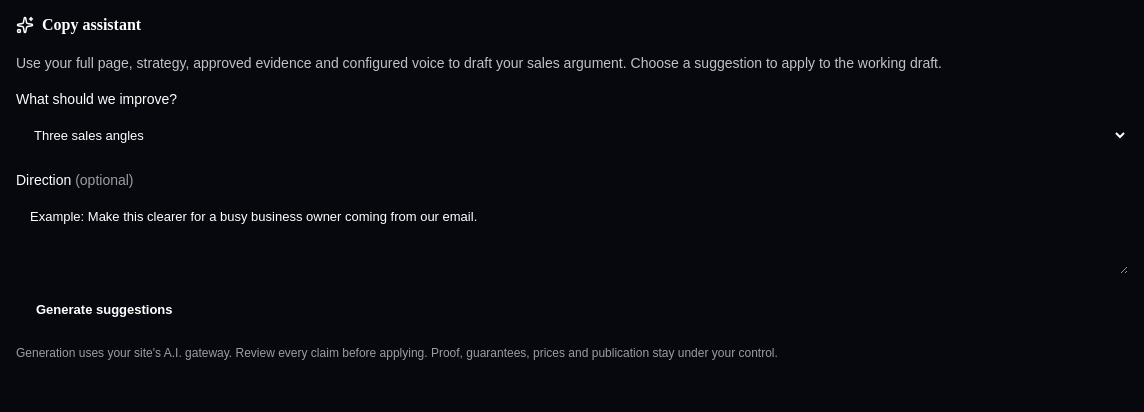
Test: copy assistant user control › preserves the working page when a provider fails
Click the button "Generate suggestions" at (104, 309), box left=16, top=290, right=192, bottom=329
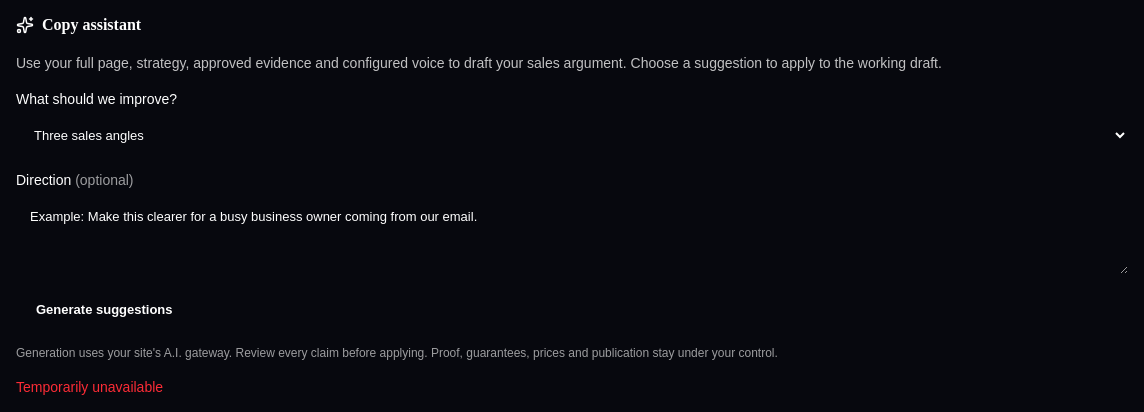
expect the message reads "Temporarily unavailable": met, box left=16, top=379, right=163, bottom=395
